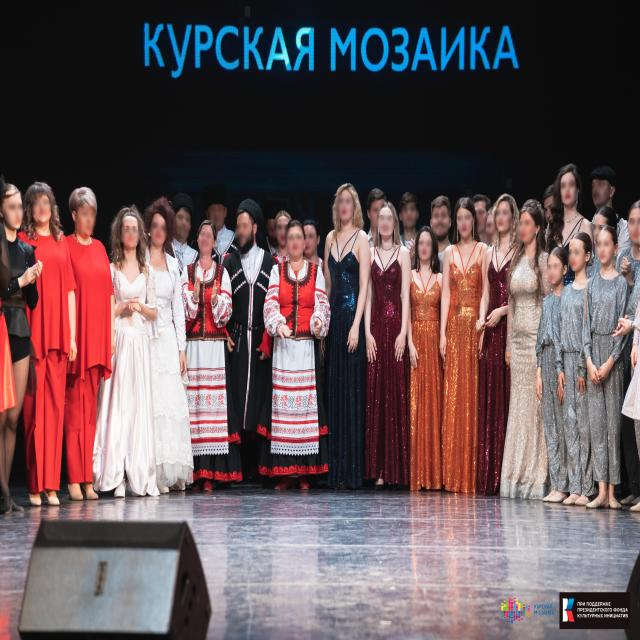Person: (319, 173, 376, 497), (435, 189, 492, 502), (61, 185, 116, 507), (266, 222, 326, 491), (221, 194, 271, 496), (496, 197, 545, 502), (141, 189, 188, 506), (359, 198, 407, 498), (25, 173, 66, 509), (108, 206, 154, 505), (181, 216, 228, 499), (482, 186, 520, 510), (584, 218, 624, 519), (405, 219, 446, 502), (558, 225, 596, 511), (0, 173, 31, 523), (531, 244, 568, 507), (616, 189, 640, 514), (558, 155, 586, 232), (172, 196, 197, 276), (204, 184, 228, 265), (588, 158, 622, 214), (426, 186, 454, 248), (541, 173, 562, 241), (469, 189, 489, 248), (403, 188, 420, 242), (484, 200, 502, 249), (262, 211, 280, 248)
